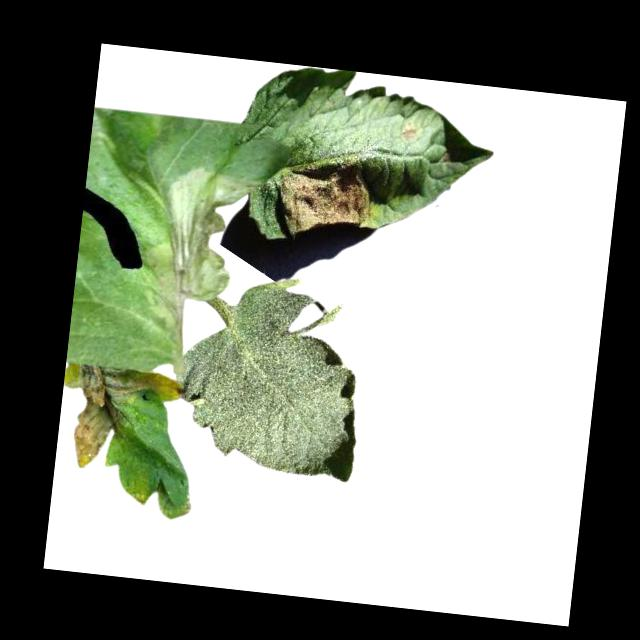Late_blight: (129, 161, 256, 367), (56, 362, 181, 479), (273, 151, 375, 240), (398, 123, 419, 141)
healthy: (166, 264, 372, 482)
